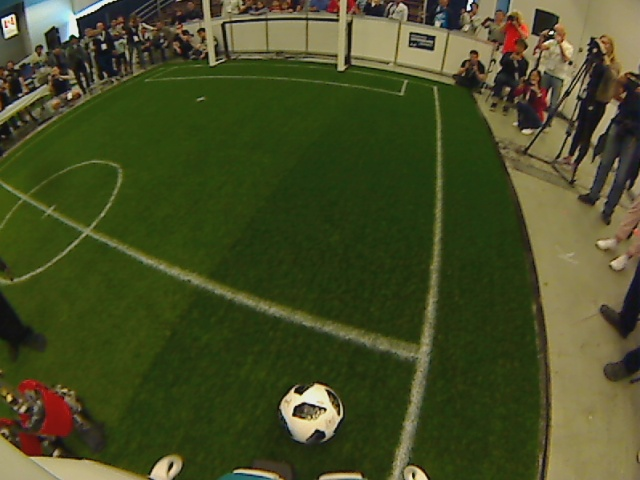ball: (276, 379, 343, 451)
